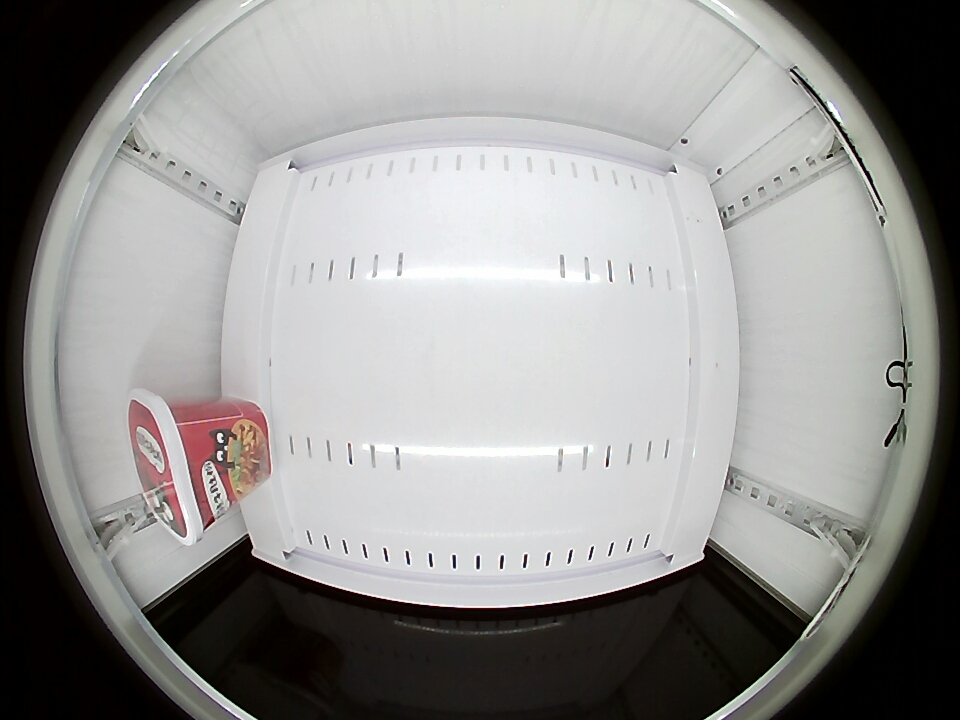niudufen: (128, 393, 223, 544)
